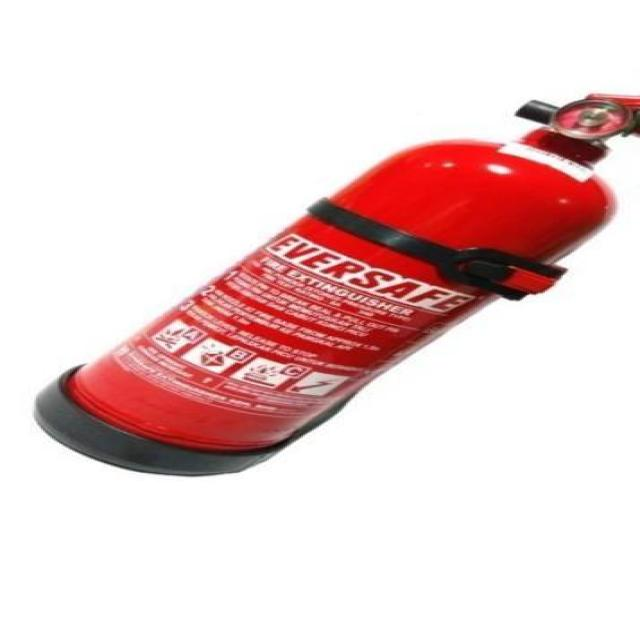fire_extinguisher: (27, 88, 638, 480)
